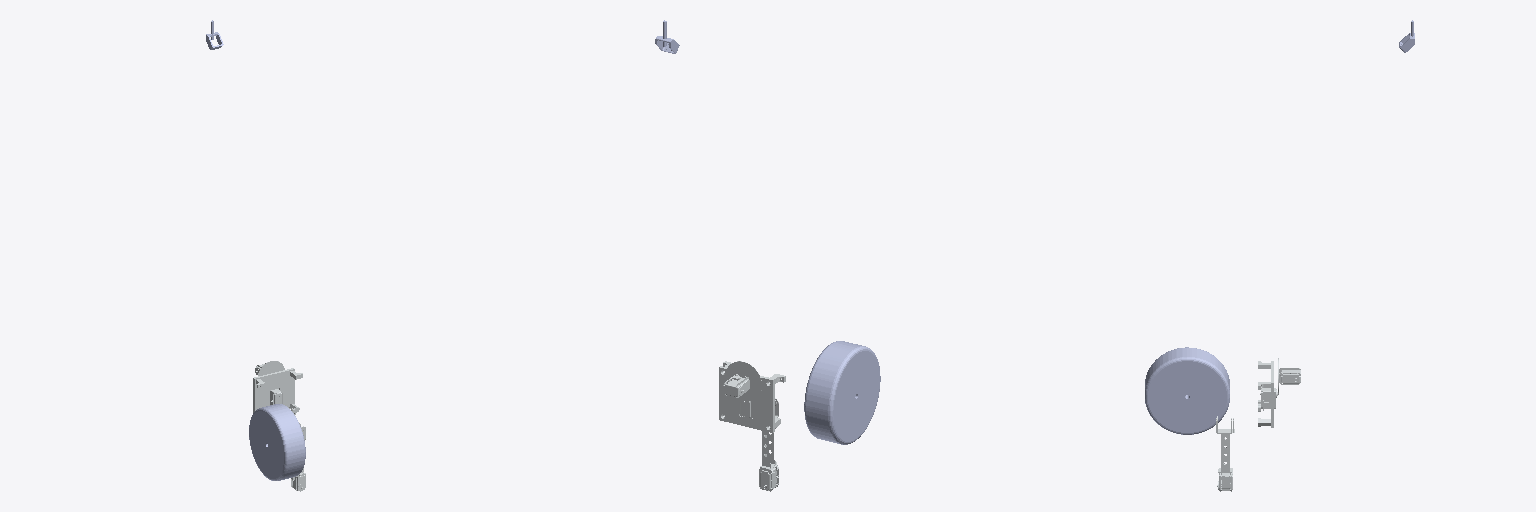
The robot description file, URDF, robot "mobile_base_assembly with arm":
<?xml version="1.0" encoding="utf-8"?>
<!-- This URDF was automatically created by SolidWorks to URDF Exporter! Originally created by [author] ([email redacted]) 
     Commit Version: 1.6.0-4-g7f85cfe  Build Version: 1.6.7995.38578
     For more information, please see http://wiki.ros.org/sw_urdf_exporter -->
<robot
  name="mobile_base_assembly with arm">
  <link
    name="base_link">
    <inertial>
      <origin
        xyz="-0.00247500063907848 -0.185259399389037 -0.00158375241138103"
        rpy="0 0 0" />
      <mass
        value="7.12750649390086" />
      <inertia
        ixx="0.0457606455387283"
        ixy="2.77322922063121E-06"
        ixz="3.27411439344327E-05"
        iyy="0.0218108431317149"
        iyz="0.00087813512419584"
        izz="0.0543254750685279" />
    </inertial>
    <visual>
      <origin
        xyz="0 0 0"
        rpy="0 0 0" />
      <geometry>
        <mesh
          filename="package://mobile_base_assembly with arm/meshes/base_link.STL" />
      </geometry>
      <material
        name="">
        <color
          rgba="0 0 0 1" />
      </material>
    </visual>
    <collision>
      <origin
        xyz="0 0 0"
        rpy="0 0 0" />
      <geometry>
        <mesh
          filename="package://mobile_base_assembly with arm/meshes/base_link.STL" />
      </geometry>
    </collision>
  </link>
  <link
    name="left_wheel">
    <inertial>
      <origin
        xyz="4.16333634234434E-17 5.55111512312578E-17 0.0425"
        rpy="0 0 0" />
      <mass
        value="4.46342151734513" />
      <inertia
        ixx="0.0214375253295535"
        ixy="-9.27083006375532E-19"
        ixz="-7.97975622392489E-20"
        iyy="0.0214375253295535"
        iyz="-1.43995601033231E-20"
        izz="0.0375707416693319" />
    </inertial>
    <visual>
      <origin
        xyz="0 0 0"
        rpy="0 0 0" />
      <geometry>
        <mesh
          filename="package://mobile_base_assembly with arm/meshes/left_wheel.STL" />
      </geometry>
      <material
        name="">
        <color
          rgba="0.792156862745098 0.819607843137255 0.933333333333333 1" />
      </material>
    </visual>
    <collision>
      <origin
        xyz="0 0 0"
        rpy="0 0 0" />
      <geometry>
        <mesh
          filename="package://mobile_base_assembly with arm/meshes/left_wheel.STL" />
      </geometry>
    </collision>
  </link>
  <joint
    name="left_wheel_joint"
    type="continuous">
    <origin
      xyz="-0.1795 0 0"
      rpy="1.5708 0 1.5708" />
    <parent
      link="base_link" />
    <child
      link="left_wheel" />
    <axis
      xyz="0 0 1" />
  </joint>
  <link
    name="right_wheel">
    <inertial>
      <origin
        xyz="2.77555756156289E-17 0 -0.0425"
        rpy="0 0 0" />
      <mass
        value="4.46342151734513" />
      <inertia
        ixx="0.0214375253295535"
        ixy="-2.9042607713123E-19"
        ixz="-5.26009852170224E-19"
        iyy="0.0214375253295535"
        iyz="5.9105590148048E-20"
        izz="0.0375707416693319" />
    </inertial>
    <visual>
      <origin
        xyz="0 0 0"
        rpy="0 0 0" />
      <geometry>
        <mesh
          filename="package://mobile_base_assembly with arm/meshes/right_wheel.STL" />
      </geometry>
      <material
        name="">
        <color
          rgba="0.792156862745098 0.819607843137255 0.933333333333333 1" />
      </material>
    </visual>
    <collision>
      <origin
        xyz="0 0 0"
        rpy="0 0 0" />
      <geometry>
        <mesh
          filename="package://mobile_base_assembly with arm/meshes/right_wheel.STL" />
      </geometry>
    </collision>
  </link>
  <joint
    name="right_wheel_joint"
    type="continuous">
    <origin
      xyz="0.1745 0 0"
      rpy="1.5708 0 1.5708" />
    <parent
      link="base_link" />
    <child
      link="right_wheel" />
    <axis
      xyz="0 0 1" />
  </joint>
  <link
    name="camera">
    <inertial>
      <origin
        xyz="-0.00631546895414615 -0.00352733963193702 -0.0410769894927615"
        rpy="0 0 0" />
      <mass
        value="0.434157647657648" />
      <inertia
        ixx="0.000312761614867949"
        ixy="-3.35389293036636E-08"
        ixz="-1.13015683426856E-05"
        iyy="0.000525827528394202"
        iyz="-1.47821575025501E-05"
        izz="0.000675087918007601" />
    </inertial>
    <visual>
      <origin
        xyz="0 0 0"
        rpy="0 0 0" />
      <geometry>
        <mesh
          filename="package://mobile_base_assembly with arm/meshes/camera.STL" />
      </geometry>
      <material
        name="">
        <color
          rgba="0.792156862745098 0.819607843137255 0.933333333333333 1" />
      </material>
    </visual>
    <collision>
      <origin
        xyz="0 0 0"
        rpy="0 0 0" />
      <geometry>
        <mesh
          filename="package://mobile_base_assembly with arm/meshes/camera.STL" />
      </geometry>
    </collision>
  </link>
  <joint
    name="camera_joint"
    type="fixed">
    <origin
      xyz="-0.0022996 0.27022 0.04328"
      rpy="2.3562 0 -3.1415" />
    <parent
      link="base_link" />
    <child
      link="camera" />
    <axis
      xyz="0 0 0" />
  </joint>
  <link
    name="laser">
    <inertial>
      <origin
        xyz="-3.24297391453426E-05 0.0304099645493233 -0.00053784996415665"
        rpy="0 0 0" />
      <mass
        value="0.77572976548165" />
      <inertia
        ixx="0.000937718836199801"
        ixy="3.80088779224947E-07"
        ixz="1.32636836288948E-06"
        iyy="0.000971728129760081"
        iyz="-1.59543715911999E-06"
        izz="0.000813219708306808" />
    </inertial>
    <visual>
      <origin
        xyz="0 0 0"
        rpy="0 0 0" />
      <geometry>
        <mesh
          filename="package://mobile_base_assembly with arm/meshes/laser.STL" />
      </geometry>
      <material
        name="">
        <color
          rgba="0.792156862745098 0.819607843137255 0.933333333333333 1" />
      </material>
    </visual>
    <collision>
      <origin
        xyz="0 0 0"
        rpy="0 0 0" />
      <geometry>
        <mesh
          filename="package://mobile_base_assembly with arm/meshes/laser.STL" />
      </geometry>
    </collision>
  </link>
  <joint
    name="laser_joint"
    type="fixed">
    <origin
      xyz="-0.0024966 0.13302 -0.025212"
      rpy="1.5708 0 3.1416" />
    <parent
      link="base_link" />
    <child
      link="laser" />
    <axis
      xyz="0 0 0" />
  </joint>
  <link
    name="crust_base_link">
    <inertial>
      <origin
        xyz="-0.000775434228299347 -0.00113711533604213 0.0416704710126419"
        rpy="0 0 0" />
      <mass
        value="0.701057914965333" />
      <inertia
        ixx="0.0011971005652792"
        ixy="-5.53147698500998E-08"
        ixz="9.59604536529035E-08"
        iyy="0.0013837757206023"
        iyz="-1.74181601624159E-06"
        izz="0.0025267314392892" />
    </inertial>
    <visual>
      <origin
        xyz="0 0 0"
        rpy="0 0 0" />
      <geometry>
        <mesh
          filename="package://mobile_base_assembly with arm/meshes/crust_base_link.STL" />
      </geometry>
      <material
        name="">
        <color
          rgba="0.898039215686275 0.917647058823529 0.929411764705882 1" />
      </material>
    </visual>
    <collision>
      <origin
        xyz="0 0 0"
        rpy="0 0 0" />
      <geometry>
        <mesh
          filename="package://mobile_base_assembly with arm/meshes/crust_base_link.STL" />
      </geometry>
    </collision>
  </link>
  <joint
    name="crust_base_joint"
    type="fixed">
    <origin
      xyz="-0.0016 0.12075 0.066"
      rpy="0 0 0" />
    <parent
      link="base_link" />
    <child
      link="crust_base_link" />
    <axis
      xyz="0 0 0" />
  </joint>
  <link
    name="link_1">
    <inertial>
      <origin
        xyz="0.000343621275817534 2.70875439462026E-06 0.0324124392068537"
        rpy="0 0 0" />
      <mass
        value="0.115895644200107" />
      <inertia
        ixx="5.23781885989494E-05"
        ixy="2.31118371821698E-09"
        ixz="-1.06283691716547E-06"
        iyy="6.13819748295207E-05"
        iyz="-1.64177599319527E-09"
        izz="6.27295249031557E-05" />
    </inertial>
    <visual>
      <origin
        xyz="0 0 0"
        rpy="0 0 0" />
      <geometry>
        <mesh
          filename="package://mobile_base_assembly with arm/meshes/link_1.STL" />
      </geometry>
      <material
        name="">
        <color
          rgba="0.898039215686275 0.917647058823529 0.929411764705882 1" />
      </material>
    </visual>
    <collision>
      <origin
        xyz="0 0 0"
        rpy="0 0 0" />
      <geometry>
        <mesh
          filename="package://mobile_base_assembly with arm/meshes/link_1.STL" />
      </geometry>
    </collision>
  </link>
  <joint
    name="joint_1"
    type="revolute">
    <origin
      xyz="0 0 0.059"
      rpy="0 0 0" />
    <parent
      link="crust_base_link" />
    <child
      link="link_1" />
    <axis
      xyz="0 0 1" />
    <limit
      lower="-1.57"
      upper="1.57"
      effort="200"
      velocity="3" />
  </joint>
  <link
    name="link_2">
    <inertial>
      <origin
        xyz="-0.000963145876619553 -0.161378299147481 -0.000284331859152137"
        rpy="0 0 0" />
      <mass
        value="0.115162829413529" />
      <inertia
        ixx="8.19607421534774E-05"
        ixy="-1.52641760423914E-08"
        ixz="4.13979926412227E-13"
        iyy="2.83238373910903E-05"
        iyz="-8.80590794460571E-07"
        izz="7.03346423289086E-05" />
    </inertial>
    <visual>
      <origin
        xyz="0 0 0"
        rpy="0 0 0" />
      <geometry>
        <mesh
          filename="package://mobile_base_assembly with arm/meshes/link_2.STL" />
      </geometry>
      <material
        name="">
        <color
          rgba="0.898039215686275 0.917647058823529 0.929411764705882 1" />
      </material>
    </visual>
    <collision>
      <origin
        xyz="0 0 0"
        rpy="0 0 0" />
      <geometry>
        <mesh
          filename="package://mobile_base_assembly with arm/meshes/link_2.STL" />
      </geometry>
    </collision>
  </link>
  <joint
    name="joint_2"
    type="revolute">
    <origin
      xyz="0.00315 0 0.0576"
      rpy="-1.5708 0 1.5708" />
    <parent
      link="link_1" />
    <child
      link="link_2" />
    <axis
      xyz="0 0 1" />
    <limit
      lower="-1.57"
      upper="18"
      effort="200"
      velocity="3" />
  </joint>
  <link
    name="link_3">
    <inertial>
      <origin
        xyz="-0.0012662 -0.14133 1.5697E-05"
        rpy="0 0 0" />
      <mass
        value="0.087599" />
      <inertia
        ixx="6.3554E-05"
        ixy="-1.5265E-08"
        ixz="-5.2962E-12"
        iyy="1.8123E-05"
        iyz="-1.8274E-07"
        izz="5.571E-05" />
    </inertial>
    <visual>
      <origin
        xyz="0 0 0"
        rpy="0 0 0" />
      <geometry>
        <mesh
          filename="package://mobile_base_assembly with arm/meshes/link_3.STL" />
      </geometry>
      <material
        name="">
        <color
          rgba="0.89804 0.91765 0.92941 1" />
      </material>
    </visual>
    <collision>
      <origin
        xyz="0 0 0"
        rpy="0 0 0" />
      <geometry>
        <mesh
          filename="package://mobile_base_assembly with arm/meshes/link_3.STL" />
      </geometry>
    </collision>
  </link>
  <joint
    name="joint_3"
    type="revolute">
    <origin
      xyz="0 -0.2198 -0.003"
      rpy="0 0 0" />
    <parent
      link="link_2" />
    <child
      link="link_3" />
    <axis
      xyz="0 0 1" />
    <limit
      lower="-1.57"
      upper="1.57"
      effort="200"
      velocity="3" />
  </joint>
  <link
    name="link_4">
    <inertial>
      <origin
        xyz="1.38777878078145E-16 -0.0166169932258761 -4.9960036108132E-16"
        rpy="0 0 0" />
      <mass
        value="0.0123125048840367" />
      <inertia
        ixx="4.09168052606625E-06"
        ixy="7.56563432137306E-22"
        ixz="-4.64204911470531E-21"
        iyy="3.3132541446235E-06"
        iyz="1.33391969950404E-21"
        izz="2.01112432267003E-06" />
    </inertial>
    <visual>
      <origin
        xyz="0 0 0"
        rpy="0 0 0" />
      <geometry>
        <mesh
          filename="package://mobile_base_assembly with arm/meshes/link_4.STL" />
      </geometry>
      <material
        name="">
        <color
          rgba="0.898039215686275 0.917647058823529 0.929411764705882 1" />
      </material>
    </visual>
    <collision>
      <origin
        xyz="0 0 0"
        rpy="0 0 0" />
      <geometry>
        <mesh
          filename="package://mobile_base_assembly with arm/meshes/link_4.STL" />
      </geometry>
    </collision>
  </link>
  <joint
    name="joint_4"
    type="revolute">
    <origin
      xyz="0 -0.2113 -0.001675"
      rpy="0 0 0" />
    <parent
      link="link_3" />
    <child
      link="link_4" />
    <axis
      xyz="0 0 1" />
    <limit
      lower="-1.57"
      upper="1.57"
      effort="200"
      velocity="3" />
  </joint>
  <link
    name="endeffector_link">
    <inertial>
      <origin
        xyz="-6.9776E-09 -0.063948 -0.01183"
        rpy="0 0 0" />
      <mass
        value="0.025052" />
      <inertia
        ixx="9.7274E-06"
        ixy="3.2366E-12"
        ixz="1.409E-13"
        iyy="9.3307E-06"
        iyz="-2.7968E-06"
        izz="1.2097E-05" />
    </inertial>
    <visual>
      <origin
        xyz="0 0 0"
        rpy="0 0 0" />
      <geometry>
        <mesh
          filename="package://mobile_base_assembly with arm/meshes/endeffector_link.STL" />
      </geometry>
      <material
        name="">
        <color
          rgba="0.79216 0.81961 0.93333 1" />
      </material>
    </visual>
    <collision>
      <origin
        xyz="0 0 0"
        rpy="0 0 0" />
      <geometry>
        <mesh
          filename="package://mobile_base_assembly with arm/meshes/endeffector_link.STL" />
      </geometry>
    </collision>
  </link>
  <joint
    name="endeffector_joint"
    type="fixed">
    <origin
      xyz="0.040898 -0.1244 0"
      rpy="2.3562 1.5708 0" />
    <parent
      link="link_4" />
    <child
      link="endeffector_link" />
    <axis
      xyz="0 0 0" />
  </joint>
</robot>

--- What the picture shows (computed from the rendered views, not written in the file) ---
3 views of the same robot in one strip: view 1: azimuth 30°, elevation 25°; view 2: azimuth 150°, elevation 25°; view 3: azimuth 270°, elevation 25° (orthographic).
Robot: mobile_base_assembly with arm — 11 links, 10 joints (4 revolute, 2 continuous, 4 fixed); root link base_link; default pose: every joint at zero.
Links seen in each view (by area): view 1: left_wheel, crust_base_link; view 2: left_wheel, crust_base_link, link_1, link_2; view 3: left_wheel, crust_base_link.
Link boxes in pixels (box(x1,y1,x2,y2)): left_wheel: box(249, 404, 305, 480); crust_base_link: box(253, 368, 302, 414); left_wheel: box(804, 341, 880, 444); crust_base_link: box(719, 361, 785, 432); link_1: box(723, 361, 761, 400); link_2: box(759, 398, 778, 491); left_wheel: box(1145, 347, 1229, 434); crust_base_link: box(1258, 361, 1278, 427).
Size in the robot's own frame: 0.2679 by 0.8199 by 1.56 metres.
Meshes: 11 distinct files referenced, 7 mesh visuals loaded (7 binary STL); not drawn: 4 (reference not matched to a file when rendering).